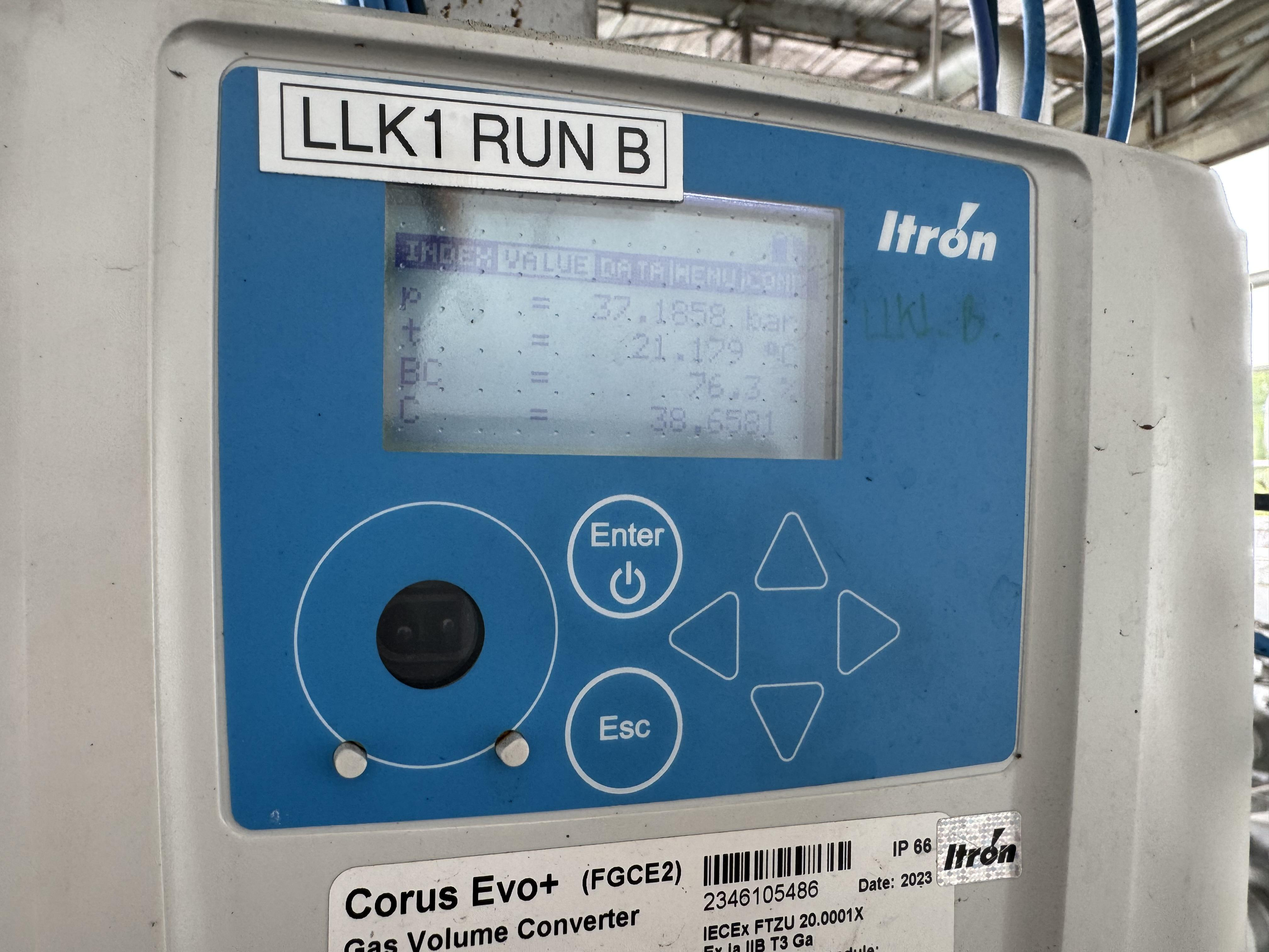digital_screen: (379, 166, 848, 463)
